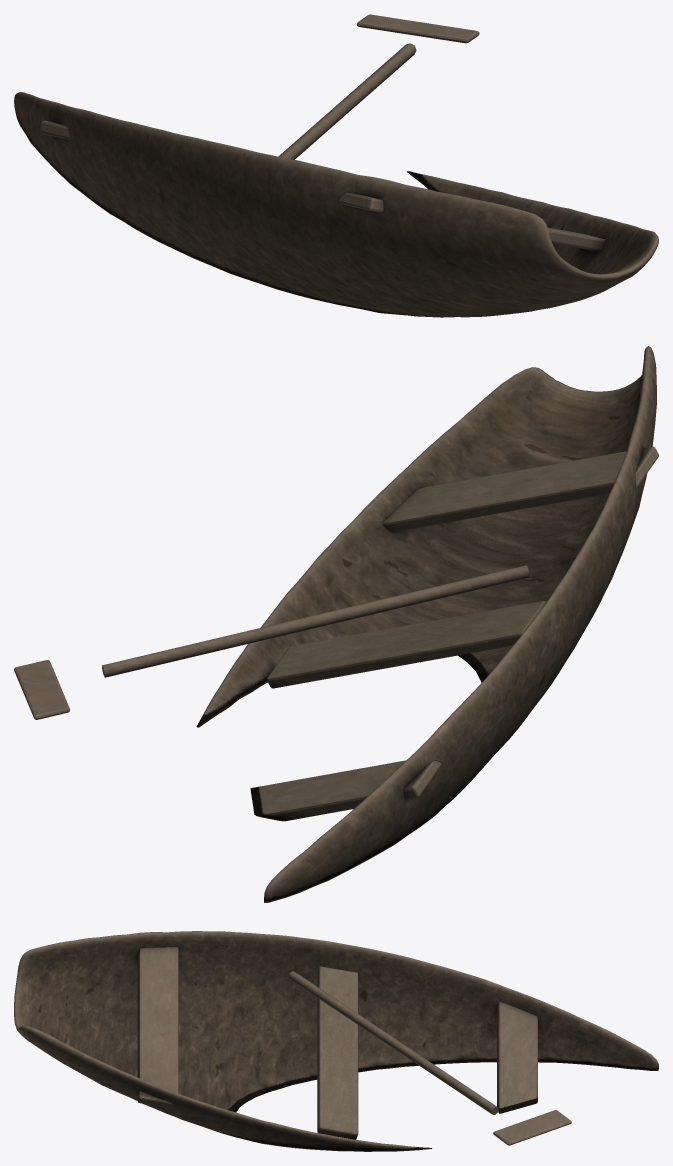
File: brejo_barco_afundado.glb
3 views of the same model, one above another, from view 1: azimuth 30°, elevation 25°; view 2: azimuth 150°, elevation 25°; view 3: azimuth 270°, elevation 25° (orthographic). The views are drawn at different scales.
Visible parts, largest first — view 1: brejo_barco_afundado_tronco; view 2: brejo_barco_afundado_tronco; view 3: brejo_barco_afundado_tronco.
Boxes of the visible parts, x1,y1,x2,y2 form: brejo_barco_afundado_tronco: (14,14,658,317); brejo_barco_afundado_tronco: (14,346,658,902); brejo_barco_afundado_tronco: (14,931,658,1151).
Size of the model in its own units: 1.85 by 0.8617 by 3.48.
Materials: 1 (1 with a texture image).
